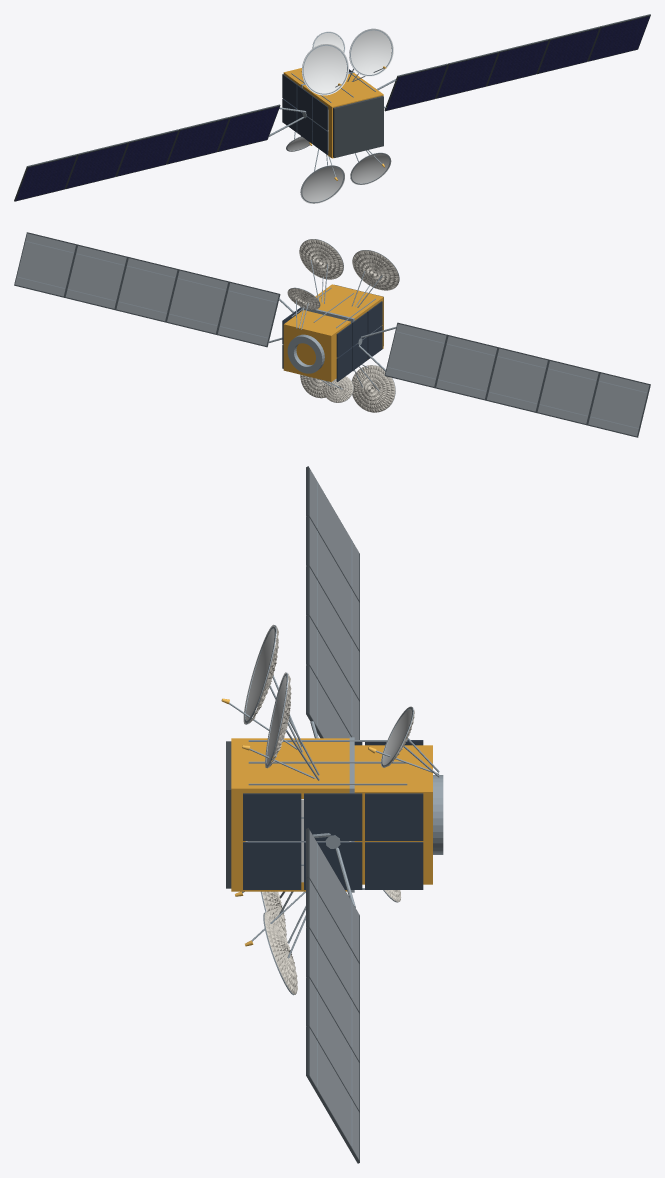
The model's file is ses-6.glb.
3 renders of one model, top to bottom at view 1: azimuth 30°, elevation 25°; view 2: azimuth 150°, elevation 25°; view 3: azimuth 270°, elevation 25°, orthographic. The views are drawn at different scales.
Visible parts, largest first — view 1: Solar cell panel (×10), Solar panel frame (×10), Earth-facing deck, Radiator bay (×6), Reflector 3 face, Reflector 4 face, Payload module, Reflector 1 face, Reflector 2 face, Reflector 6 face; view 2: Rear array substrate (×10), Solar panel frame (×10), Service module, Radiator bay (×6), Reflector 1 insulated back, Payload module, Reflector 3 insulated back, Reflector 4 insulated back, Launch adapter ring, Reflector 5 insulated back, Reflector 6 insulated back, Reflector 2 insulated back; view 3: Rear array substrate (×10), Radiator bay (×6), Payload module, Service module, Reflector 2 insulated back, Reflector 3 face.
Boxes of the visible parts, bbox=[...] form: Solar cell panel (×10): bbox=[15, 16, 649, 200]; Solar panel frame (×10): bbox=[14, 14, 650, 201]; Earth-facing deck: bbox=[333, 96, 383, 157]; Radiator bay (×6): bbox=[282, 74, 328, 154]; Reflector 3 face: bbox=[302, 44, 348, 95]; Reflector 4 face: bbox=[349, 28, 393, 76]; Payload module: bbox=[302, 73, 383, 158]; Reflector 1 face: bbox=[300, 165, 344, 203]; Reflector 2 face: bbox=[350, 153, 391, 184]; Reflector 6 face: bbox=[312, 31, 345, 52]; Rear array substrate (×10): bbox=[15, 233, 649, 436]; Solar panel frame (×10): bbox=[14, 232, 650, 437]; Service module: bbox=[283, 310, 350, 381]; Radiator bay (×6): bbox=[336, 301, 382, 381]; Reflector 1 insulated back: bbox=[351, 365, 395, 412]; Payload module: bbox=[315, 284, 383, 348]; Reflector 3 insulated back: bbox=[352, 250, 399, 290]; Reflector 4 insulated back: bbox=[299, 239, 343, 279]; Launch adapter ring: bbox=[287, 334, 324, 373]; Reflector 5 insulated back: bbox=[323, 376, 353, 402]; Reflector 6 insulated back: bbox=[287, 288, 319, 309]; Reflector 2 insulated back: bbox=[300, 374, 325, 398]; Rear array substrate (×10): bbox=[309, 469, 359, 1159]; Radiator bay (×6): bbox=[243, 793, 423, 889]; Payload module: bbox=[231, 738, 349, 891]; Service module: bbox=[354, 745, 432, 884]; Reflector 2 insulated back: bbox=[264, 912, 297, 994]; Reflector 3 face: bbox=[243, 624, 275, 724].
Bounding box in the file's own units: 39.77 × 9.8 × 6.13.
10 materials, 1 textured.
